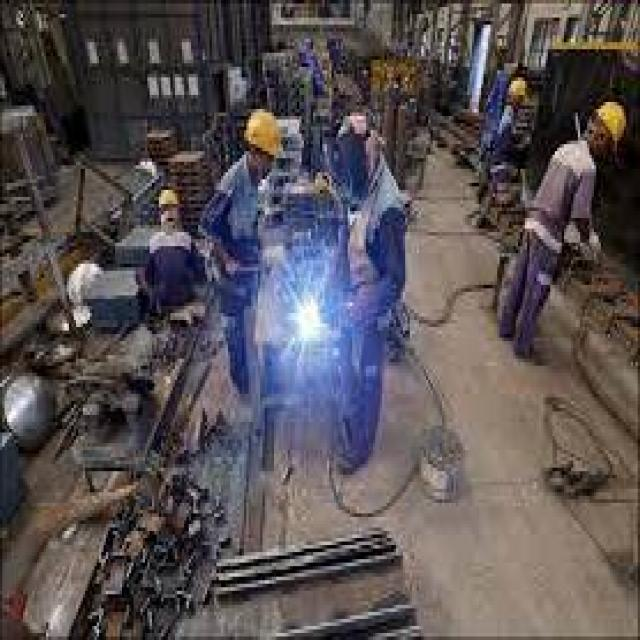Reflective-Jacket: (509, 134, 605, 288)
Safety-Helmet: (237, 102, 292, 169), (585, 92, 633, 152), (152, 179, 189, 218)
